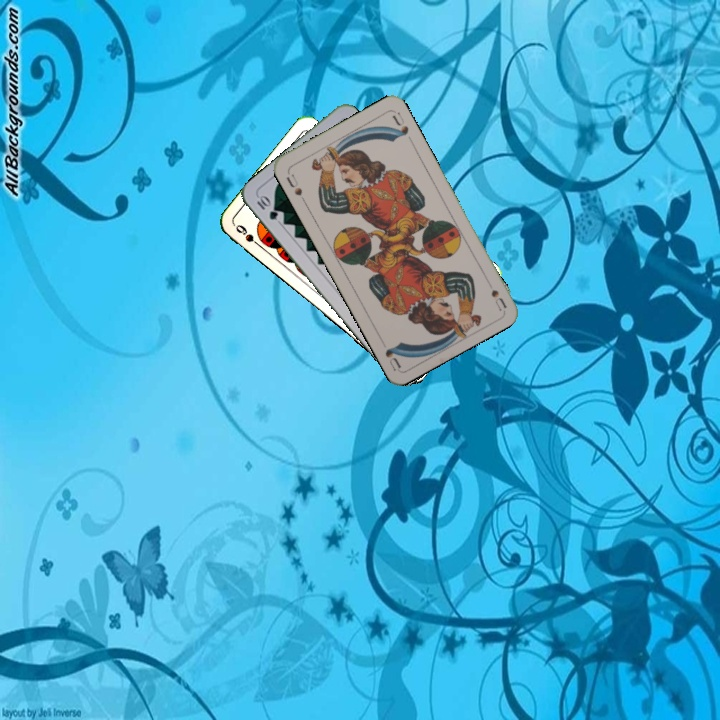G10: (253, 191, 281, 223)
S9: (232, 220, 266, 251)
SU: (282, 168, 308, 205), (487, 285, 509, 313)
